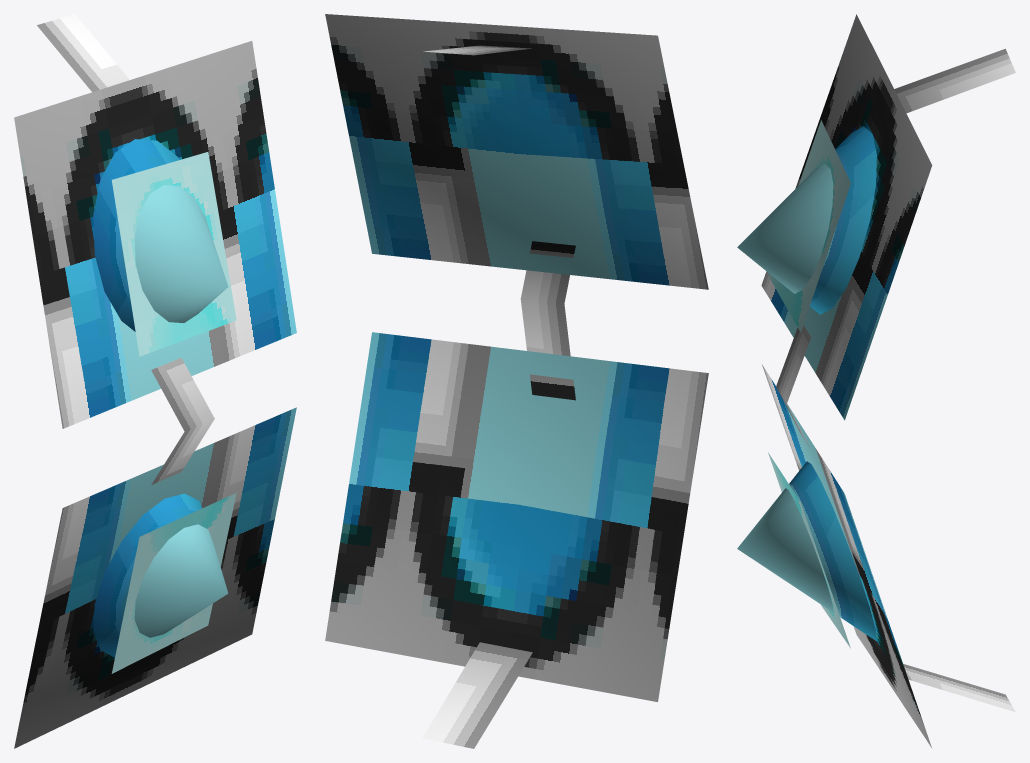
The model's file is acc_goggle.dae.
The picture shows the model from 3 angles, left to right: view 1: azimuth 30°, elevation 25°; view 2: azimuth 150°, elevation 25°; view 3: azimuth 270°, elevation 25°; orthographic projection. The views are drawn at different scales.
Visible parts, largest first — view 1: acc_goggle; view 2: acc_goggle; view 3: acc_goggle.
Boxes of the visible parts, left/top/right/bottom form: acc_goggle: left=14, top=14, right=296, bottom=748; acc_goggle: left=325, top=14, right=708, bottom=748; acc_goggle: left=737, top=14, right=1015, bottom=747.
Size of the model in its own units: 8.57 by 19.43 by 7.61.
2 materials, 2 textured.
